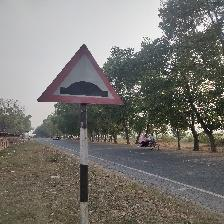Speed-breaker: (39, 47, 123, 105)
